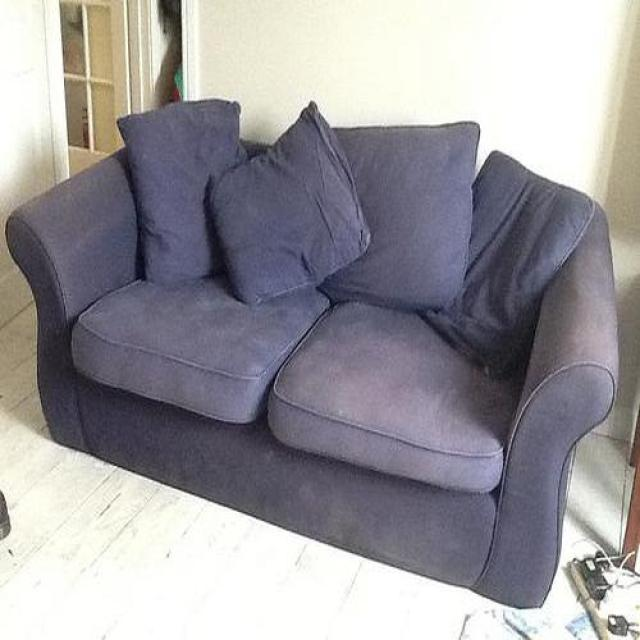sofa: (5, 100, 617, 608)
